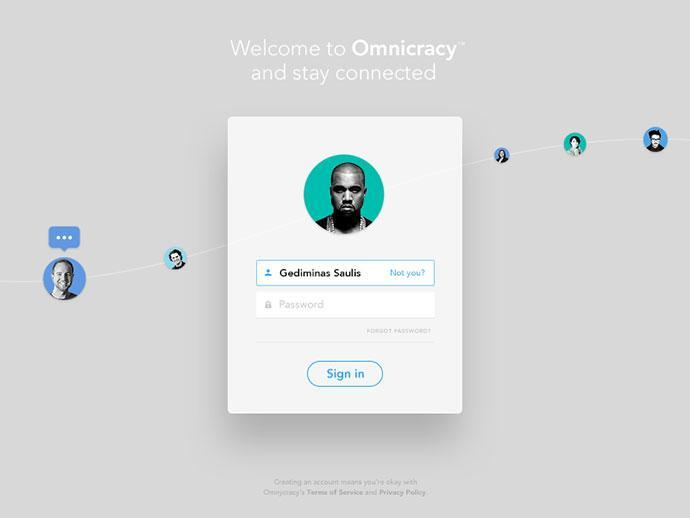button: (308, 360, 384, 389)
icon: (261, 295, 276, 314), (263, 266, 275, 282)
input: (277, 291, 437, 319), (278, 261, 437, 286)
